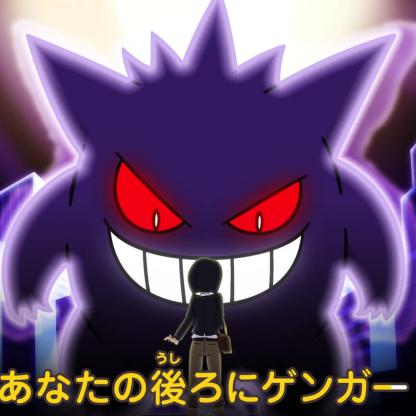Gengar: (8, 17, 414, 358)
